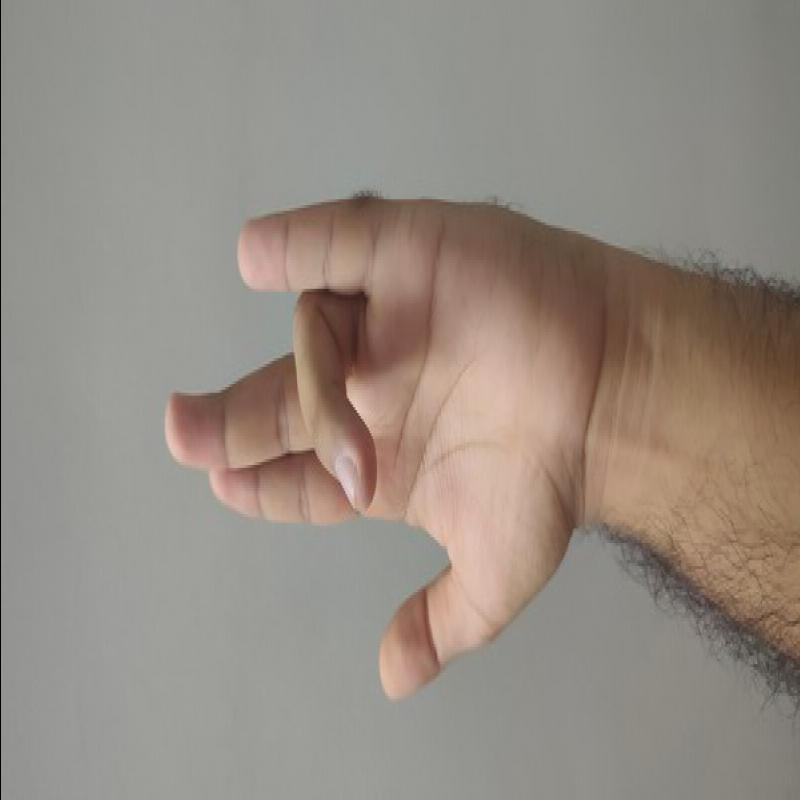Pathaaka: (155, 174, 596, 712)
